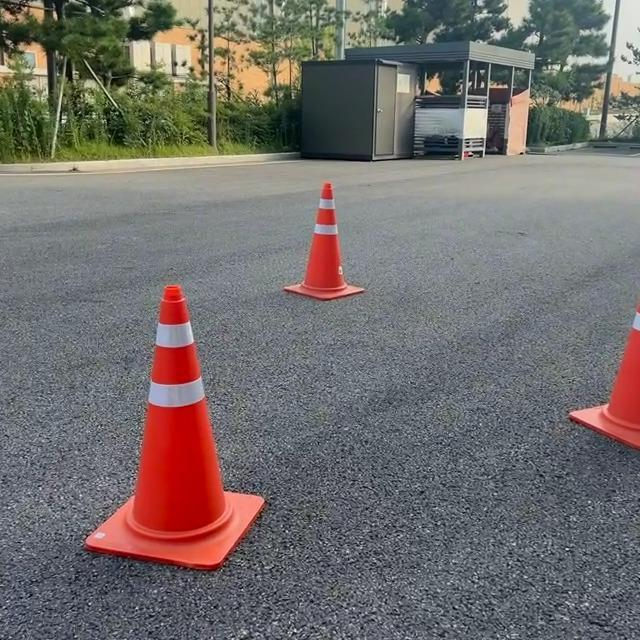fallen_object: (86, 312, 321, 568), (499, 270, 640, 497), (289, 193, 385, 325)
